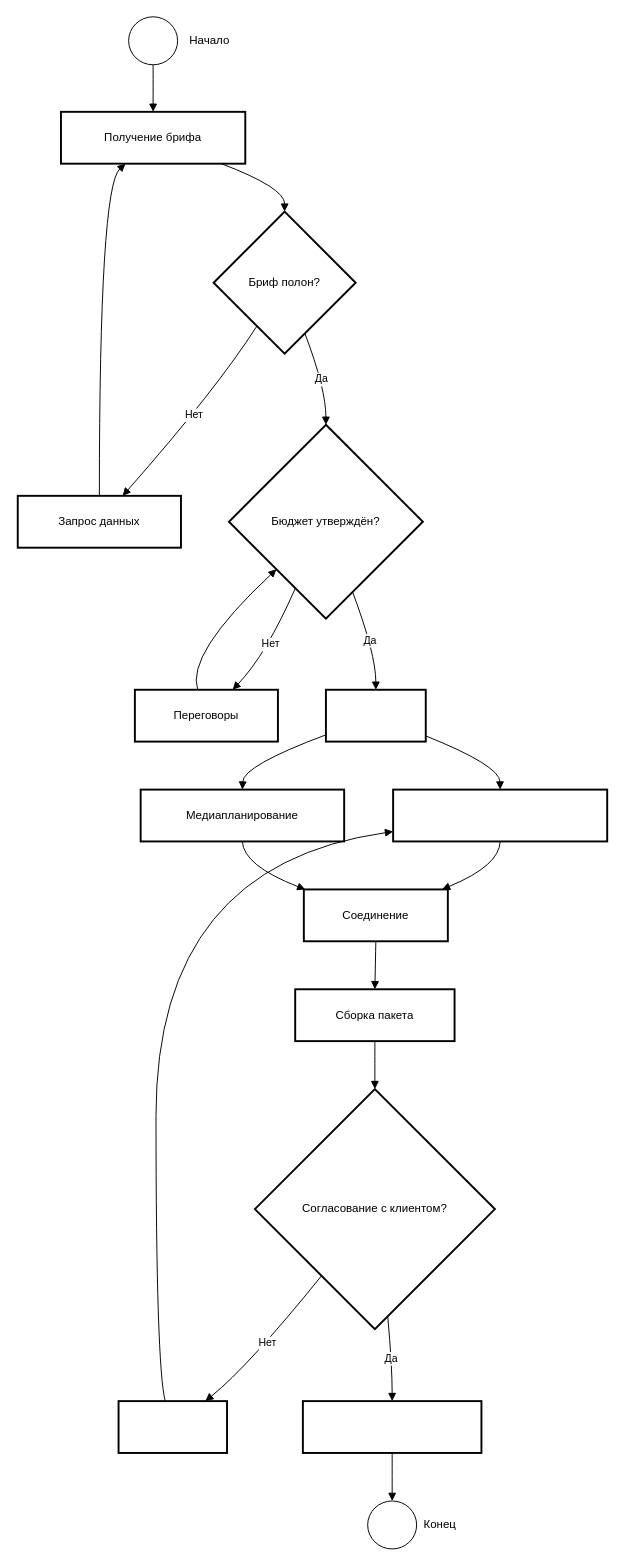
This 624x1566 diagram has some shape labels left out. Here are the shapes that lost their labels. From the top down, the centre of each, then its label:
At (x=375, y=715): "Вилка".
At (x=500, y=815): "Разработка креативов".
At (x=172, y=1426): "Правки".
At (x=391, y=1426): "Запуск кампании".
